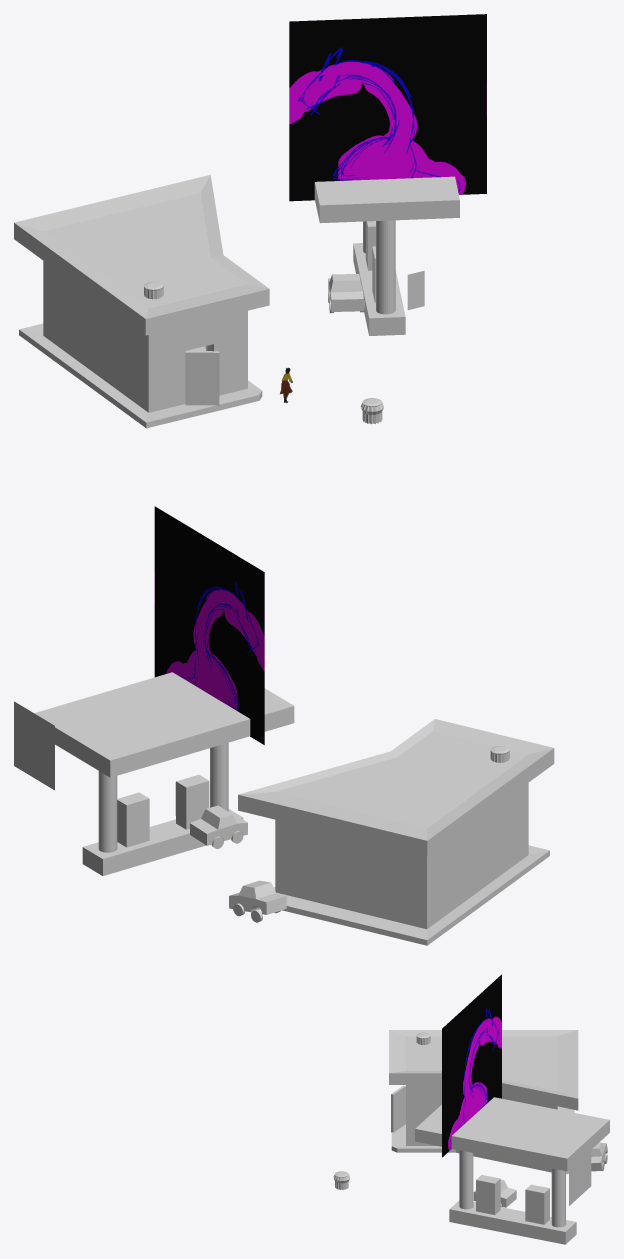
3 renders of one model, top to bottom at view 1: azimuth 30°, elevation 25°; view 2: azimuth 150°, elevation 25°; view 3: azimuth 270°, elevation 25°, orthographic. The views are drawn at different scales.
Visible parts, largest first — view 1: building.001, right_dragon_front.001, carport_roof.001, carport_base.001, door.001, carport_pillar_near.001, car_body.001, chester.001; view 2: building.001, right_dragon_front.001, carport_roof.001, carport_base.001, right_dragon_tail.001, carport_pillar_far.001, car_body.001, wrecked_car_body.001, carport_pillar_near.001; view 3: building.001, carport_roof.001, right_dragon_front.001, carport_base.001, right_dragon_tail.001, carport_pillar_far.001, carport_pillar_near.001, door.001, wrecked_car_body.001.
Part boxes in pixels (x1=…): building.001: x1=14, y1=174, x2=269, y2=428; right_dragon_front.001: x1=289, y1=14, x2=486, y2=201; carport_roof.001: x1=314, y1=176, x2=459, y2=223; carport_base.001: x1=353, y1=221, x2=405, y2=335; door.001: x1=185, y1=351, x2=219, y2=405; carport_pillar_near.001: x1=376, y1=220, x2=395, y2=314; car_body.001: x1=328, y1=274, x2=363, y2=311; chester.001: x1=407, y1=270, x2=424, y2=309; building.001: x1=238, y1=719, x2=554, y2=945; right_dragon_front.001: x1=154, y1=506, x2=264, y2=744; carport_roof.001: x1=34, y1=672, x2=294, y2=777; carport_base.001: x1=82, y1=774, x2=243, y2=875; right_dragon_tail.001: x1=14, y1=701, x2=54, y2=790; carport_pillar_far.001: x1=98, y1=771, x2=117, y2=852; car_body.001: x1=190, y1=805, x2=247, y2=845; wrecked_car_body.001: x1=229, y1=880, x2=286, y2=914; carport_pillar_near.001: x1=210, y1=742, x2=228, y2=811; building.001: x1=389, y1=1030, x2=578, y2=1174; carport_roof.001: x1=415, y1=1097, x2=609, y2=1171; right_dragon_front.001: x1=442, y1=974, x2=501, y2=1157; carport_base.001: x1=449, y1=1175, x2=576, y2=1244; right_dragon_tail.001: x1=569, y1=1138, x2=591, y2=1205; carport_pillar_far.001: x1=551, y1=1168, x2=565, y2=1227; carport_pillar_near.001: x1=459, y1=1150, x2=473, y2=1209; door.001: x1=391, y1=1085, x2=405, y2=1132; wrecked_car_body.001: x1=591, y1=1142, x2=607, y2=1171.
Size of what is drawn, in the model's own units: 5133 by 3494 by 8463.
